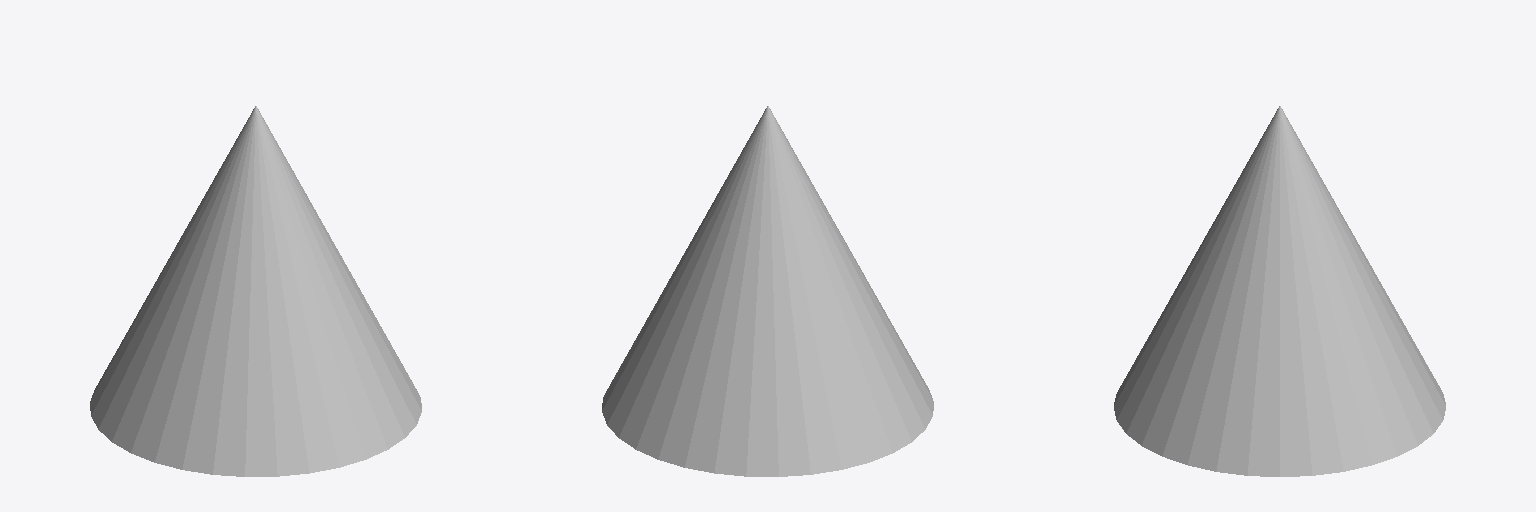
The model's file is signal_obj.obj.
3 views of the same model, side by side, from view 1: azimuth 30°, elevation 25°; view 2: azimuth 150°, elevation 25°; view 3: azimuth 270°, elevation 25° (orthographic).
Parts seen in each view (by area): view 1: Cone; view 2: Cone; view 3: Cone.
Part boxes in pixels (x1,y1,x2,y2): Cone: (90, 106, 421, 476); Cone: (602, 106, 933, 476); Cone: (1114, 106, 1445, 476).
Bounding box in the file's own units: 0.1 × 0.1 × 0.1.